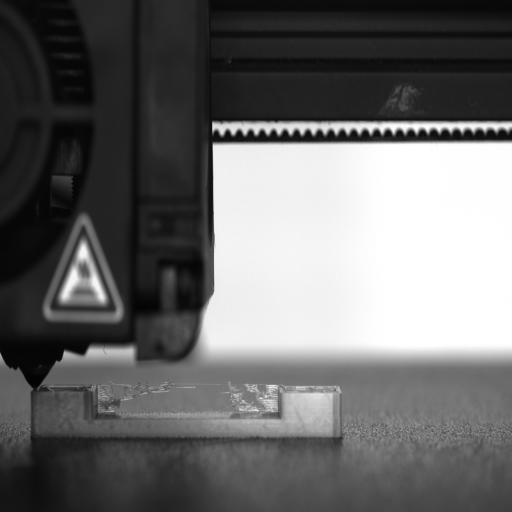spaghetti_and_stringing: (97, 380, 279, 414)
